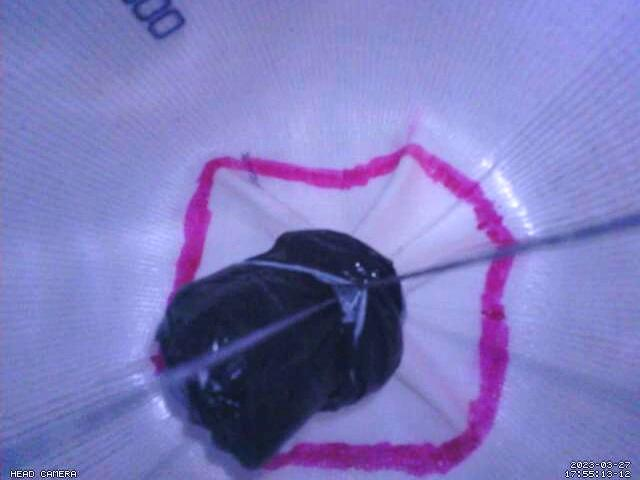red-circle: (167, 143, 520, 474)
